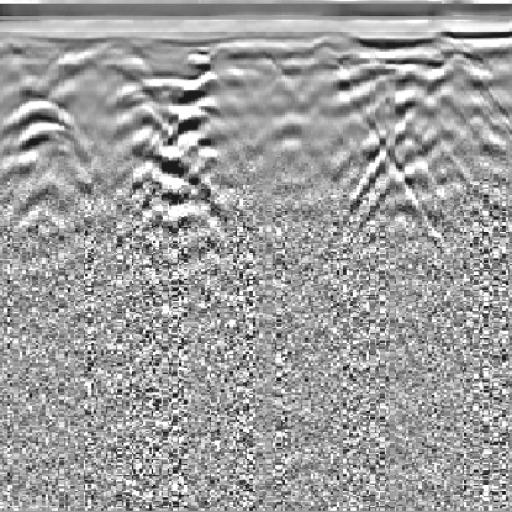metalic: (104, 48, 259, 290)
